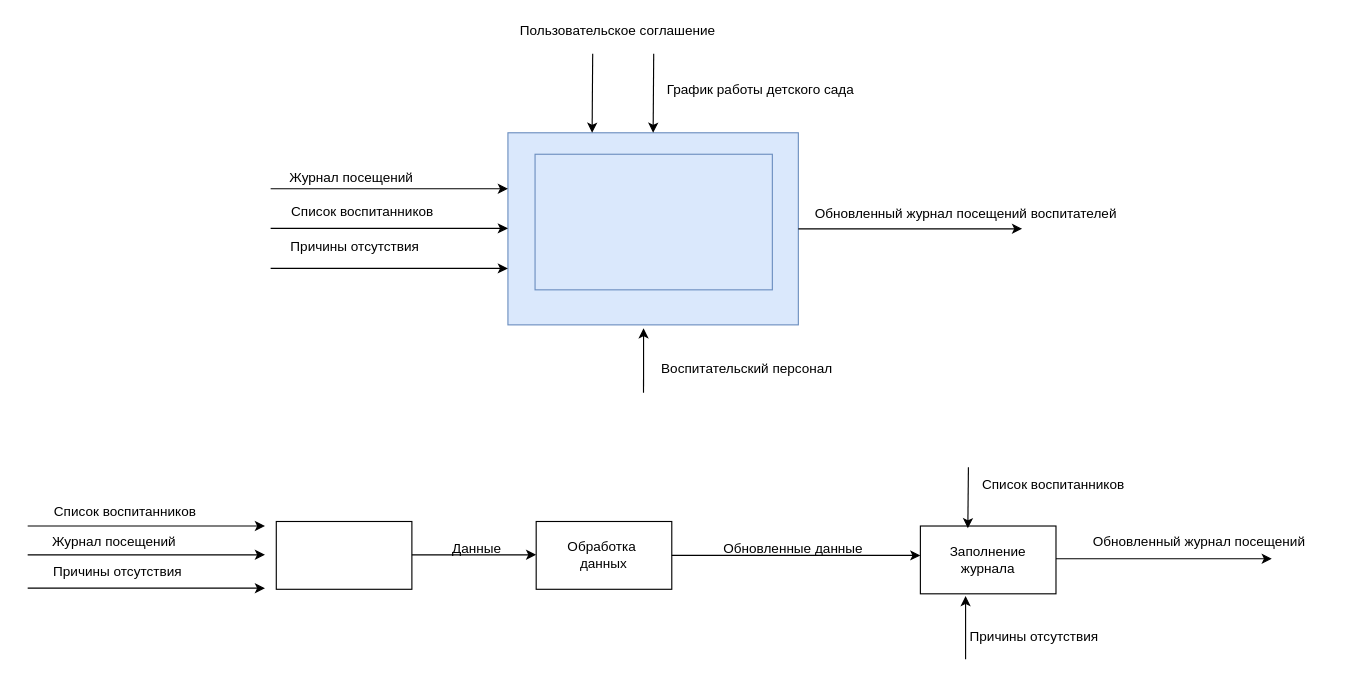
This 1348x688 diagram has some shape labels left out. Each missing label, with the centre of its shape:
"Обновление журнала" belongs at (343,554).
"Обновление журнала посещений воспитателем" belongs at (653,221).
